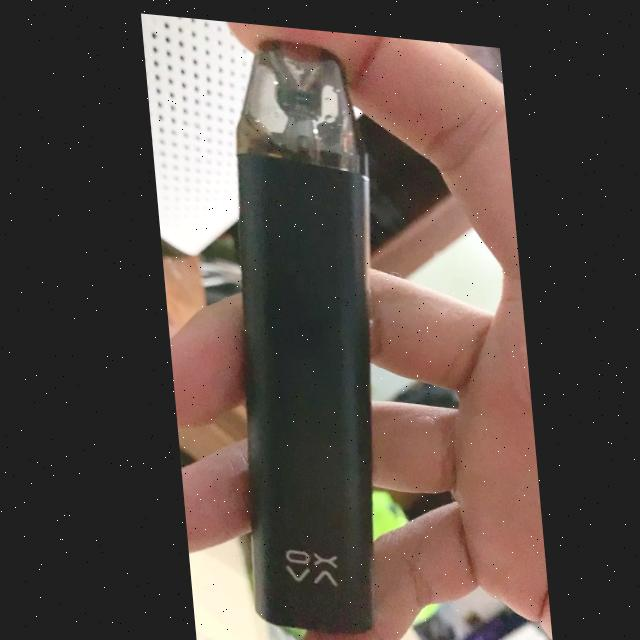vape: (202, 26, 401, 635)
